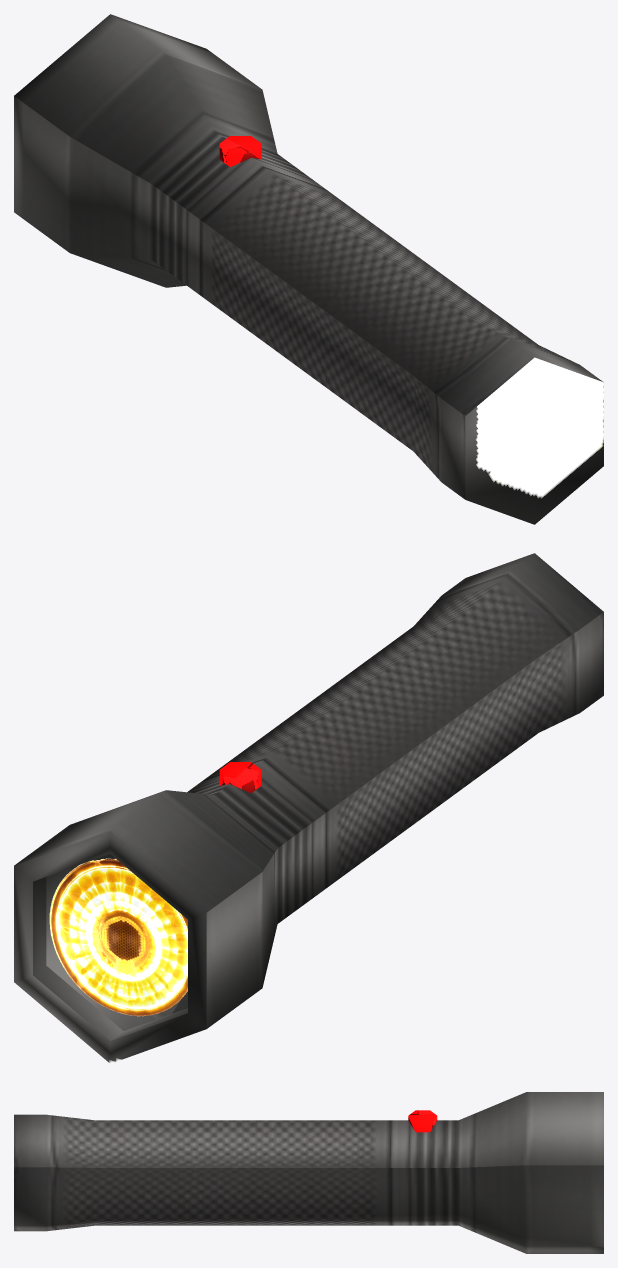
File: flashlight.fbx
3 views of the same model, one above another, from view 1: azimuth 30°, elevation 25°; view 2: azimuth 150°, elevation 25°; view 3: azimuth 270°, elevation 25° (orthographic). The views are drawn at different scales.
Parts seen in each view (by area): view 1: Flashlight; view 2: Flashlight; view 3: Flashlight.
Boxes of the visible parts, x1,y1,x2,y2 form: Flashlight: (14, 14, 603, 524); Flashlight: (14, 553, 603, 1063); Flashlight: (14, 1092, 603, 1253).
Size of the model in its own units: 45.68 by 52.75 by 174.
2 materials, 2 textured.
